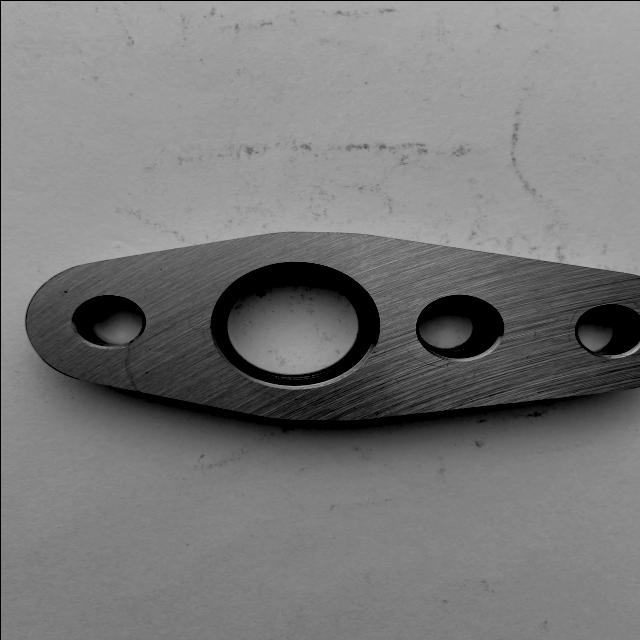chap: (59, 286, 70, 294)
lines: (122, 348, 136, 388), (423, 358, 463, 370), (402, 344, 418, 364), (566, 304, 582, 320)
